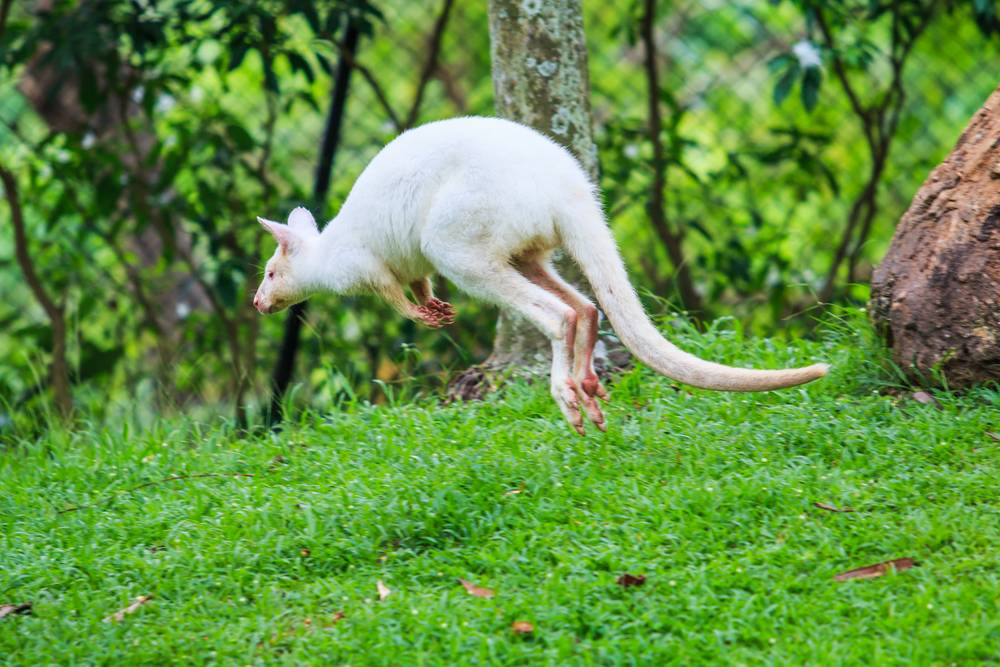kangaroo: (246, 111, 836, 441)
